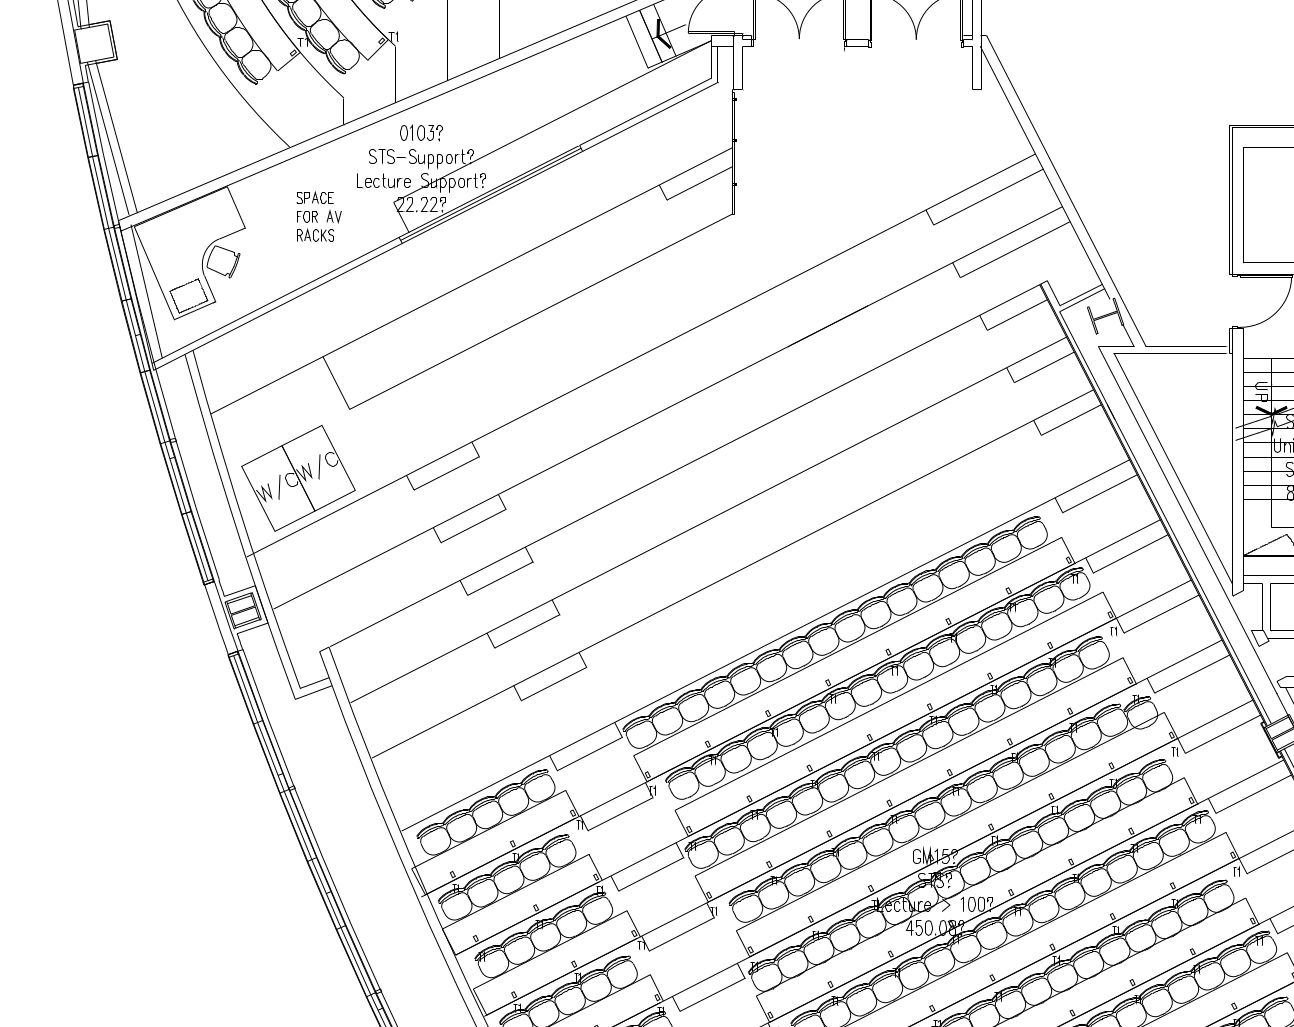door: (1230, 273, 1294, 331), (755, 1, 798, 44), (797, 1, 840, 44)
